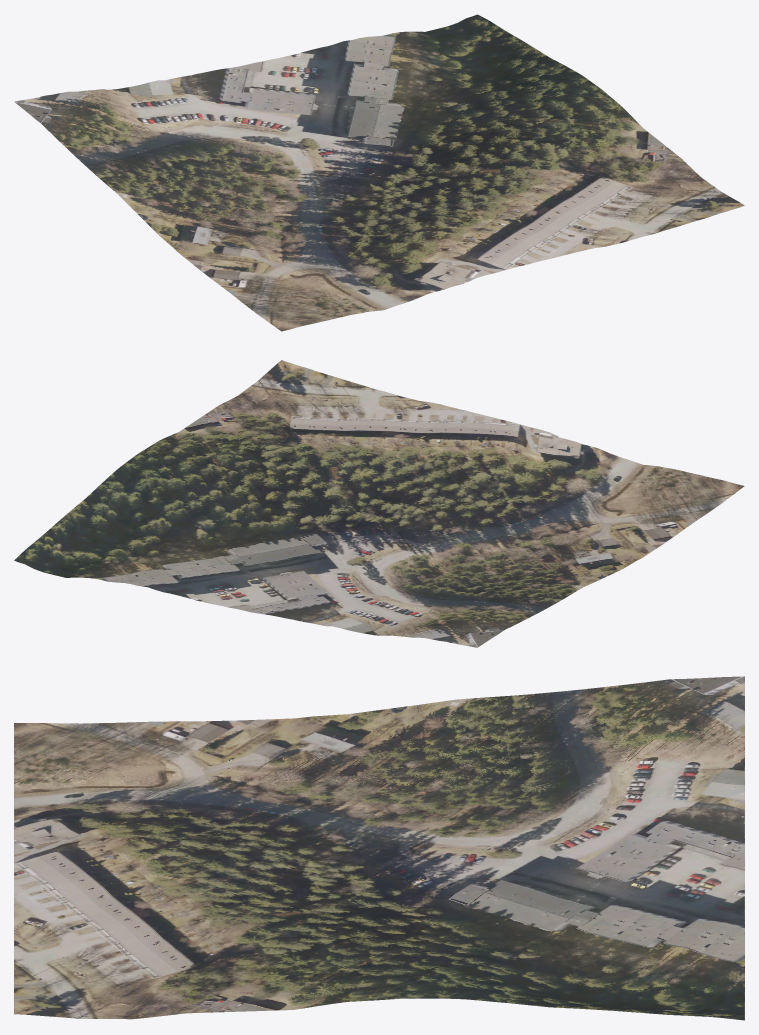
Rendered from CM_Terrain_24490868_6821432.fbx.
3 views of the same model, one above another, from view 1: azimuth 30°, elevation 25°; view 2: azimuth 150°, elevation 25°; view 3: azimuth 270°, elevation 25° (orthographic). The views are drawn at different scales.
Parts seen in each view (by area): view 1: CM_Terrain_24490868_6821432_LOD0; view 2: CM_Terrain_24490868_6821432_LOD0; view 3: CM_Terrain_24490868_6821432_LOD0.
Part boxes in pixels (x1,y1,x2,y2): CM_Terrain_24490868_6821432_LOD0: [14, 14, 744, 331]; CM_Terrain_24490868_6821432_LOD0: [14, 360, 744, 647]; CM_Terrain_24490868_6821432_LOD0: [14, 676, 744, 1020].
Size of what is drawn, in the model's own units: 205 by 15.93 by 205.
